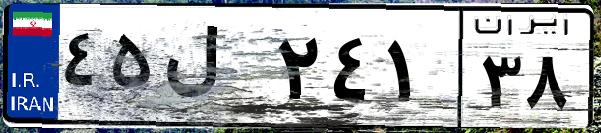1: (385, 28, 445, 110)
2: (270, 28, 330, 110)
3: (475, 38, 525, 113)
4: (330, 28, 385, 110), (57, 26, 110, 100)
5: (110, 28, 158, 98)
8: (525, 38, 570, 115)
ل: (158, 20, 270, 120)
